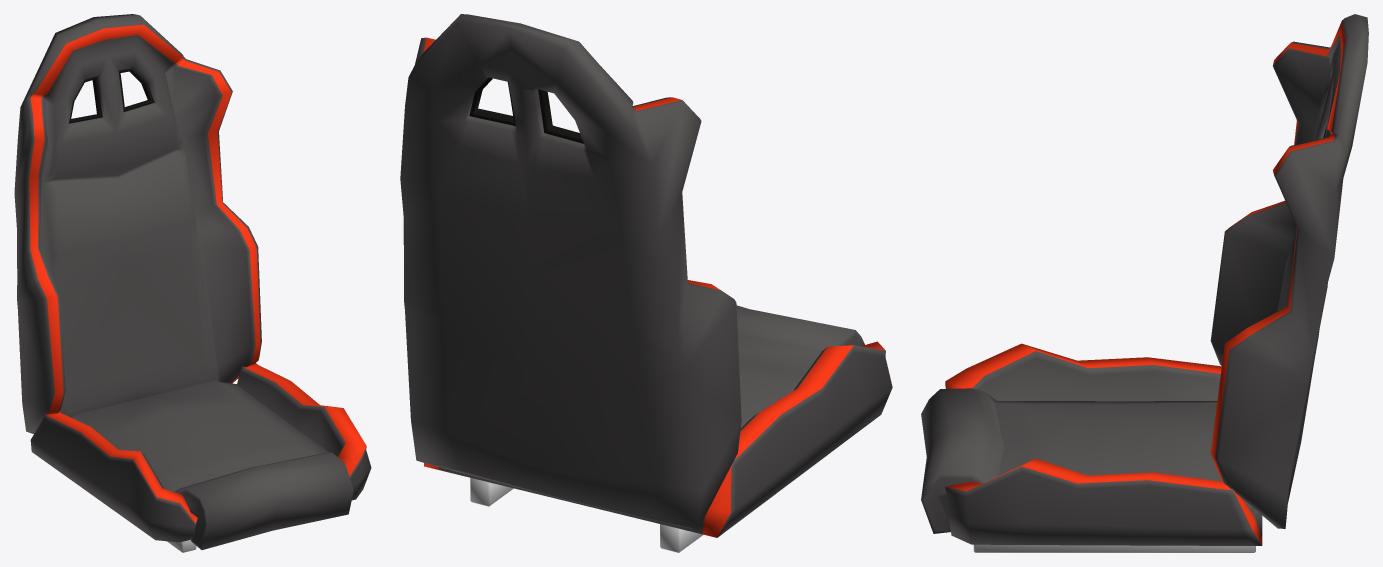
The model's file is seat.fbx.
3 views of the same model, side by side, from view 1: azimuth 30°, elevation 25°; view 2: azimuth 150°, elevation 25°; view 3: azimuth 270°, elevation 25° (orthographic). The views are drawn at different scales.
Parts seen in each view (by area): view 1: top, bseat, bottom, lem; view 2: top, bottom, bseat, Cube, lem; view 3: top, bottom, bseat, Cube.
Part boxes in pixels (bbox=[...]): top: bbox=[14, 14, 261, 433]; bseat: bbox=[70, 380, 353, 549]; bottom: bbox=[30, 363, 371, 542]; lem: bbox=[69, 68, 154, 123]; top: bbox=[400, 14, 741, 529]; bottom: bbox=[424, 341, 892, 537]; bseat: bbox=[736, 305, 864, 428]; Cube: bbox=[470, 478, 703, 552]; lem: bbox=[469, 77, 583, 143]; top: bbox=[1210, 14, 1368, 528]; bottom: bbox=[945, 343, 1262, 545]; bseat: bbox=[921, 388, 1253, 533]; Cube: bbox=[973, 544, 1255, 552].
Bounding box in the file's own units: 129 × 220 × 187.
